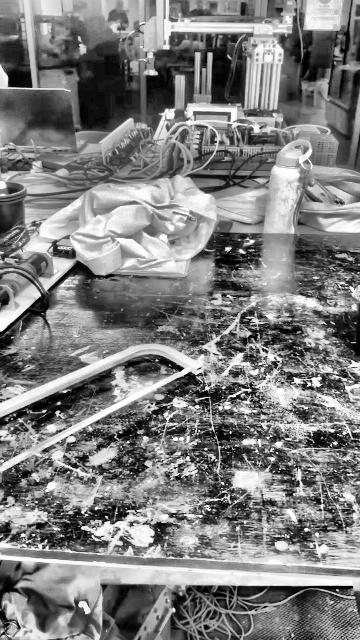pot: (0, 182, 26, 233)
